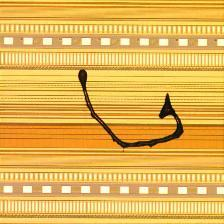PARTICLE: (75, 66, 190, 152)
